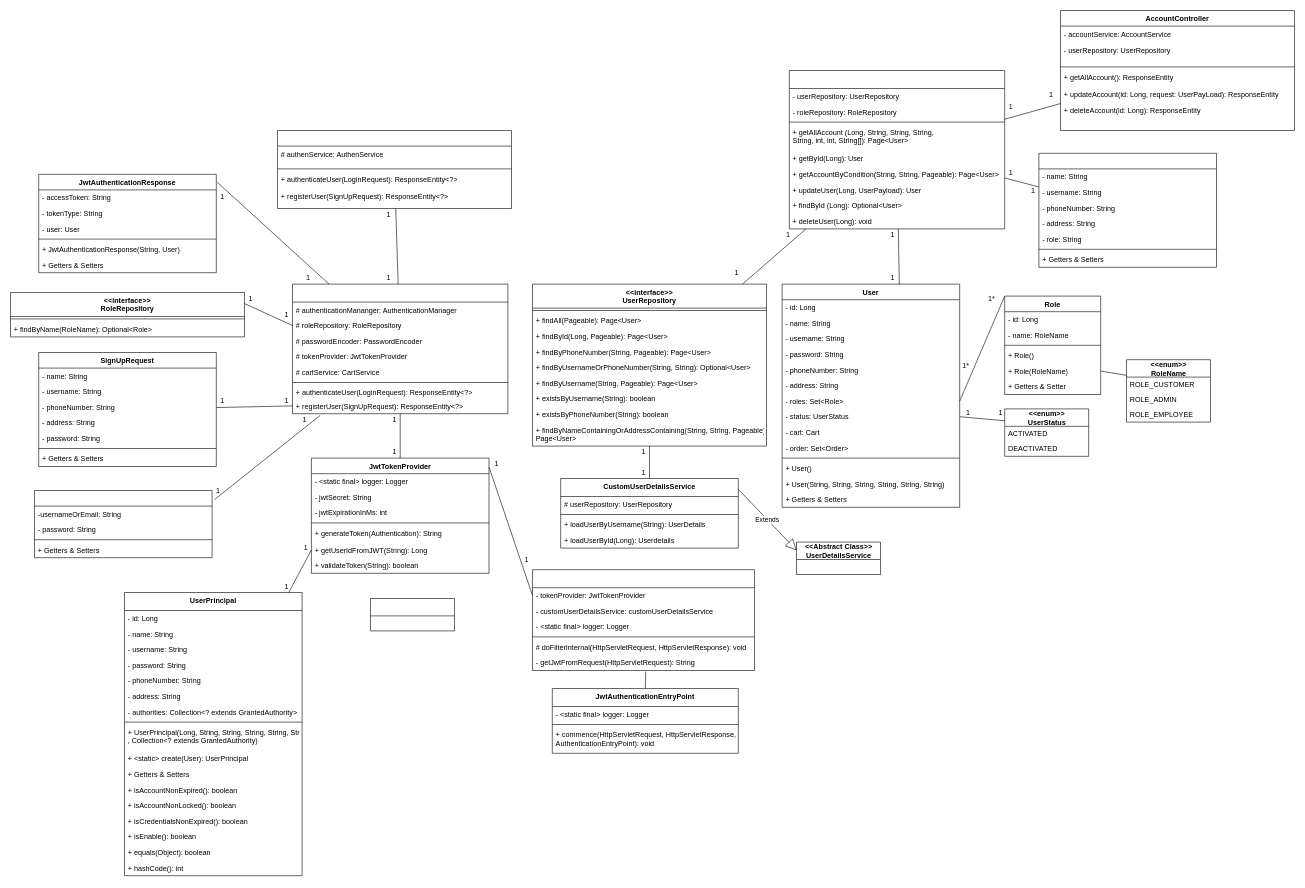
Image size: 1305x888. Some labels were removed from this diagram. The shapes that lost their labels are listed below. From the top down, each one's box as (x1, y1, x2, y2) in pixels, then its label:
(277, 130, 512, 208): AuthController
(789, 70, 1005, 229): AccountService
(1038, 153, 1216, 267): UserPayload
(292, 284, 508, 414): AuthenService
(34, 490, 212, 558): LoginRequest
(370, 598, 454, 631): <<interface>> CurrentUser
(532, 569, 754, 670): JwtAuthenticationFilter
